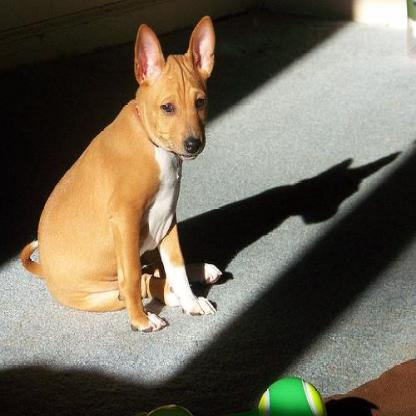basenji: (19, 11, 222, 331)
